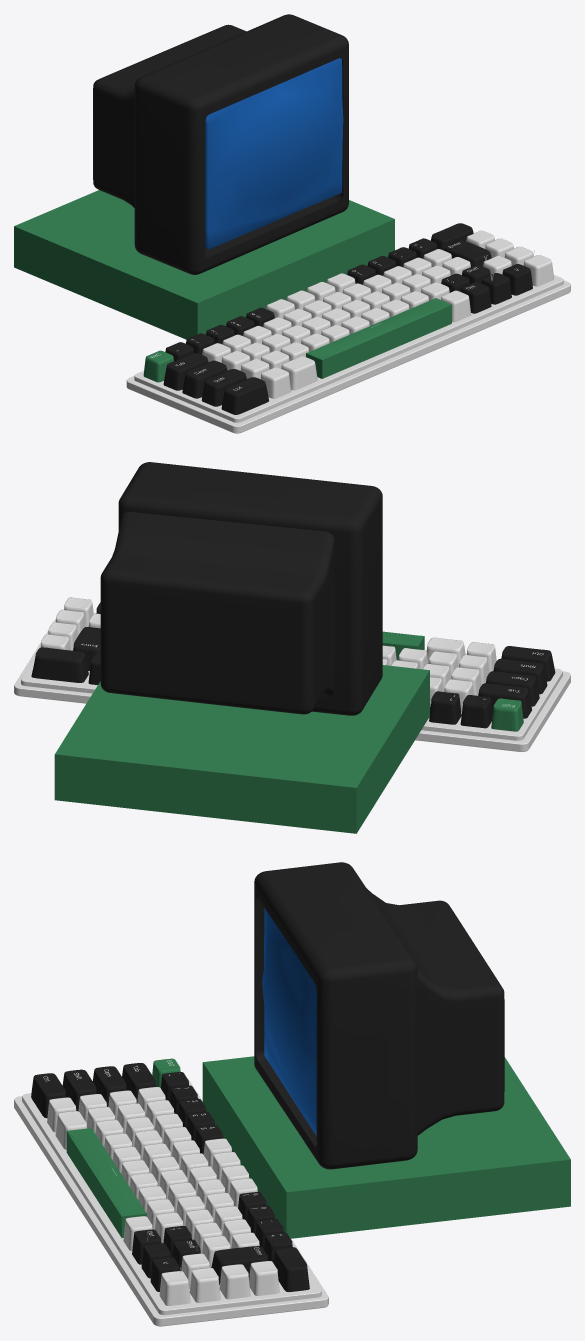
The model's file is mipc.glb.
The picture shows the model from 3 angles, top to bottom: view 1: azimuth 30°, elevation 25°; view 2: azimuth 150°, elevation 25°; view 3: azimuth 270°, elevation 25°; orthographic projection. The views are drawn at different scales.
Visible parts, largest first — view 1: components, frame, screen, grafics, Rectangle 4.001, Cube.068, Rectangle 4, Cube.050, Cube.035, Cube.019, Cube.056, Cube.049 (+9 smaller); view 2: grafics, components, frame, Rectangle 4.001, Rectangle 4, Cube.004, Cube.001, Cube.003, Cube.002, Cube.056, Cube.050, Cube.035 (+9 smaller); view 3: frame, components, grafics, screen, Rectangle 4.001, Rectangle 4, Cube.068, Cube.004, Cube.057, Cube.050, Cube.020, Cube.038 (+6 smaller).
Part boxes in pixels (x1,y1,x2,y2): components: (14,190,394,339); frame: (134,14,348,274); screen: (205,58,343,249); grafics: (93,24,246,207); Rectangle 4.001: (126,280,570,433); Cube.068: (306,298,451,378); Rectangle 4: (134,275,563,422); Cube.050: (221,377,268,414); Cube.035: (201,369,246,406); Cube.019: (182,360,227,398); Cube.056: (163,353,208,390); Cube.049: (281,356,317,390); grafics: (100,512,334,714); components: (54,665,429,833); frame: (118,462,382,715); Rectangle 4.001: (14,619,570,752); Rectangle 4: (21,656,562,740); Cube.004: (31,647,88,682); Cube.001: (491,698,523,731); Cube.003: (429,691,461,724); Cube.002: (460,695,492,728); Cube.056: (478,683,531,718); Cube.050: (501,646,555,681); Cube.035: (493,658,547,694); frame: (254,862,417,1169); components: (202,1056,570,1238); grafics: (366,888,504,1135); screen: (262,907,316,1135); Rectangle 4.001: (14,1079,328,1326); Rectangle 4: (22,1093,321,1315); Cube.068: (66,1128,146,1237); Cube.004: (273,1247,309,1292); Cube.057: (211,1246,268,1285); Cube.050: (31,1073,66,1117); Cube.020: (219,1264,250,1299); Cube.038: (159,1271,190,1305).
Bounding box in the file's own units: 13.31 × 7.01 × 13.01.
